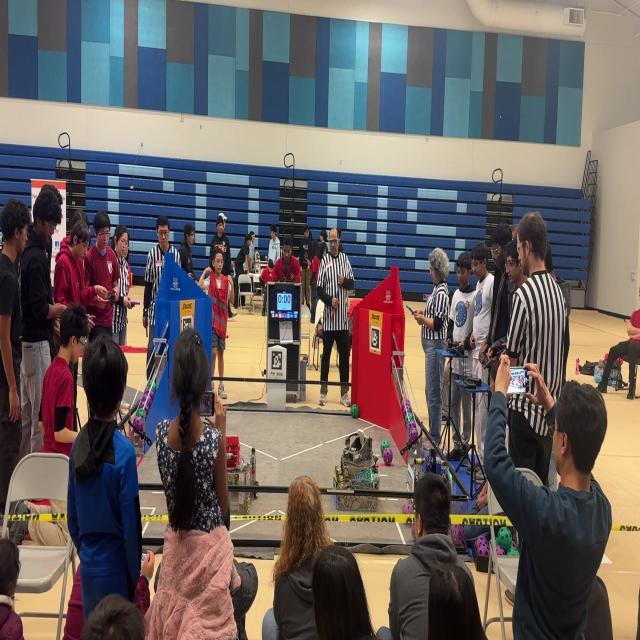artifact_green: (402, 501, 414, 514), (496, 544, 506, 556), (405, 412, 414, 425), (147, 381, 156, 392), (351, 404, 358, 418), (411, 523, 416, 541), (136, 409, 145, 418)
artifact_purple: (496, 527, 512, 550), (474, 537, 489, 557), (449, 525, 464, 545), (474, 536, 488, 549), (383, 447, 393, 465), (477, 546, 490, 558), (409, 426, 417, 444), (139, 394, 149, 408), (133, 416, 143, 430), (402, 502, 413, 514), (142, 398, 150, 414), (139, 397, 148, 411), (405, 412, 414, 426), (140, 388, 147, 405), (381, 440, 389, 454), (507, 547, 519, 556), (147, 392, 154, 407), (403, 398, 410, 412), (136, 406, 144, 418), (407, 420, 417, 429), (147, 381, 156, 391), (496, 546, 505, 555), (148, 390, 154, 402), (401, 405, 407, 417), (143, 387, 150, 397), (412, 524, 416, 541), (407, 403, 412, 414), (512, 540, 517, 548)
